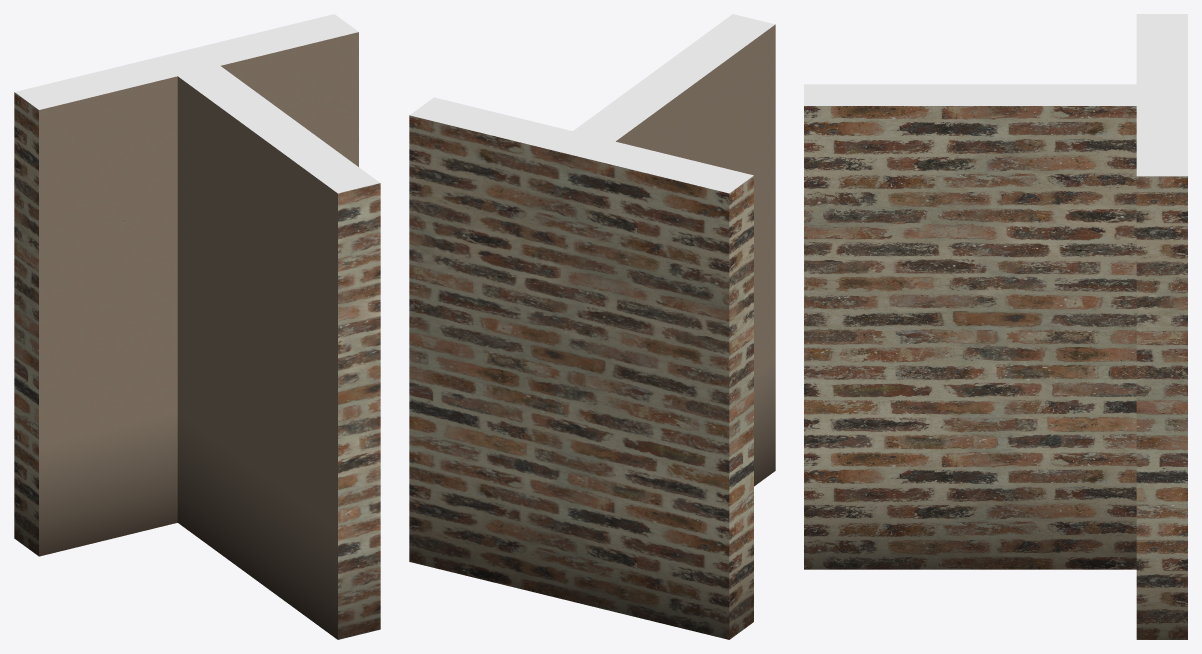
File: wall_t.glb
3 renders of one model, left to right at view 1: azimuth 30°, elevation 25°; view 2: azimuth 150°, elevation 25°; view 3: azimuth 270°, elevation 25°, orthographic. The views are drawn at different scales.
Visible parts, largest first — view 1: wall_t-col; view 2: wall_t-col; view 3: wall_t-col.
Boxes of the visible parts, x1,y1,x2,y2 form: wall_t-col: (14, 14, 380, 639); wall_t-col: (409, 14, 775, 639); wall_t-col: (804, 14, 1187, 639).
Bounding box in the file's own units: 1.5 × 2 × 1.5.
3 materials, 2 textured.
